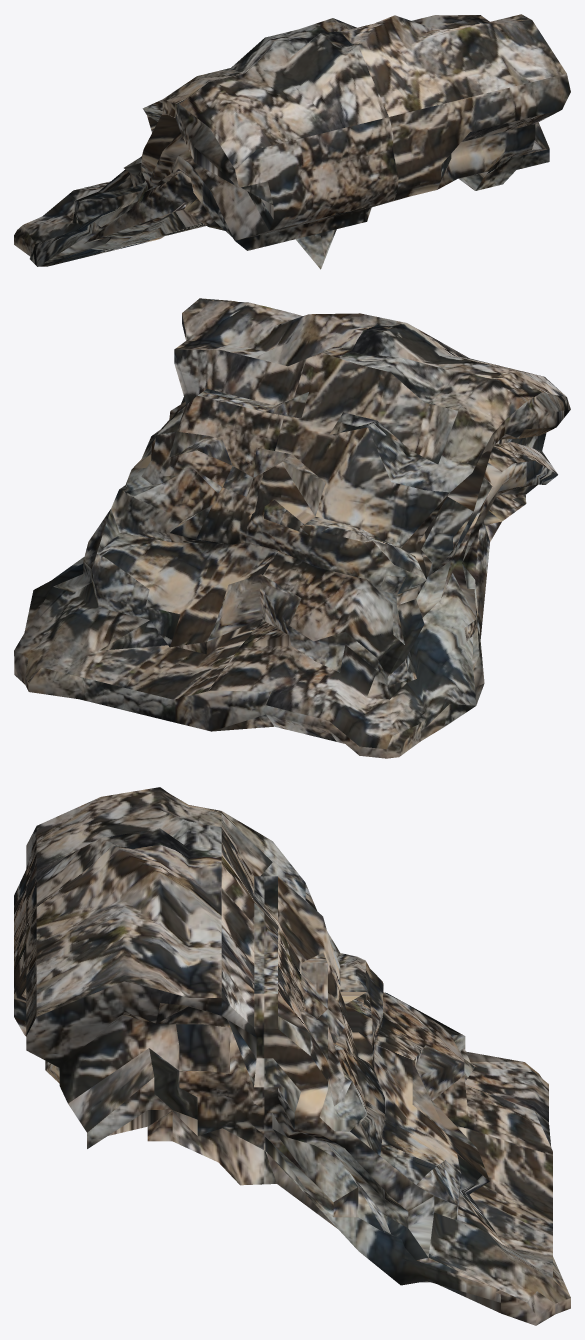
File: cliff3.fbx
3 views of the same model, one above another, from view 1: azimuth 30°, elevation 25°; view 2: azimuth 150°, elevation 25°; view 3: azimuth 270°, elevation 25° (orthographic). The views are drawn at different scales.
Parts seen in each view (by area): view 1: Box004; view 2: Box004; view 3: Box004.
Part boxes in pixels (left/top/right/bottom): Box004: left=14, top=14, right=570, bottom=269; Box004: left=14, top=298, right=570, bottom=758; Box004: left=14, top=787, right=570, bottom=1325.
Size of the model in its own units: 134 by 85.49 by 118.
